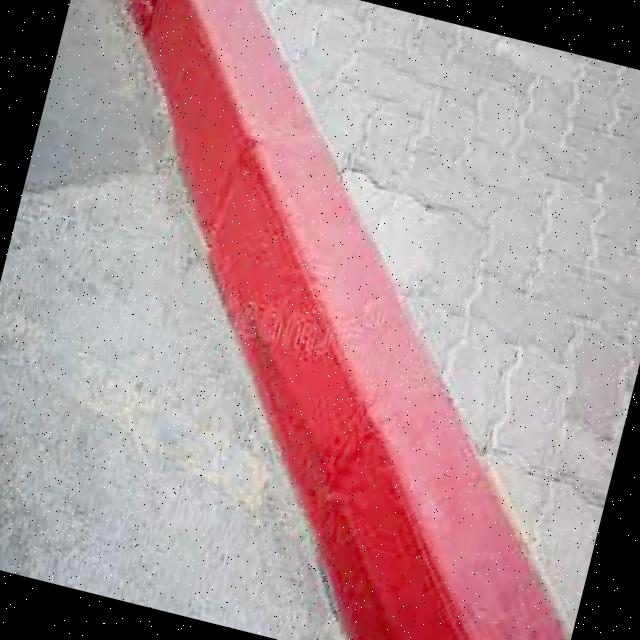curb: (242, 450, 595, 640), (172, 330, 515, 520), (168, 160, 446, 383), (60, 1, 294, 160)
